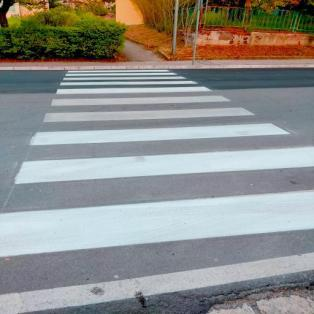Paso de Cebra: (20, 106, 296, 149), (51, 79, 216, 96)
